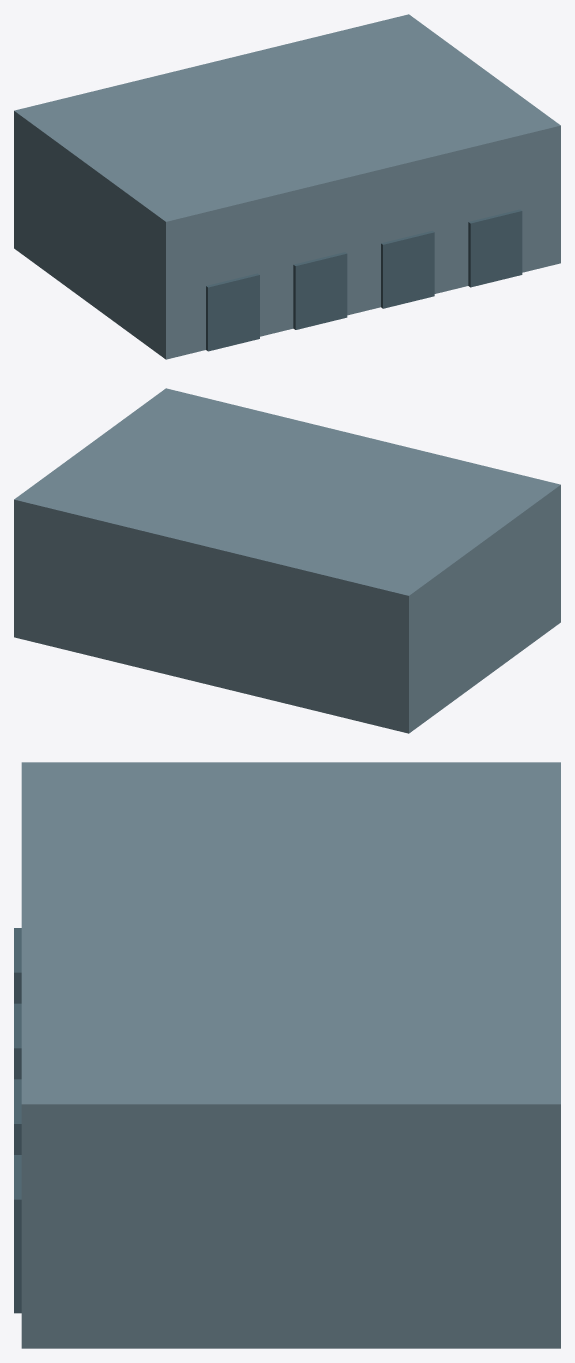
The model's file is warehouse_01.glb.
The picture shows the model from 3 angles, top to bottom: view 1: azimuth 30°, elevation 25°; view 2: azimuth 150°, elevation 25°; view 3: azimuth 270°, elevation 25°; orthographic projection. The views are drawn at different scales.
Size of the model in its own units: 42 by 14 by 28.4.
